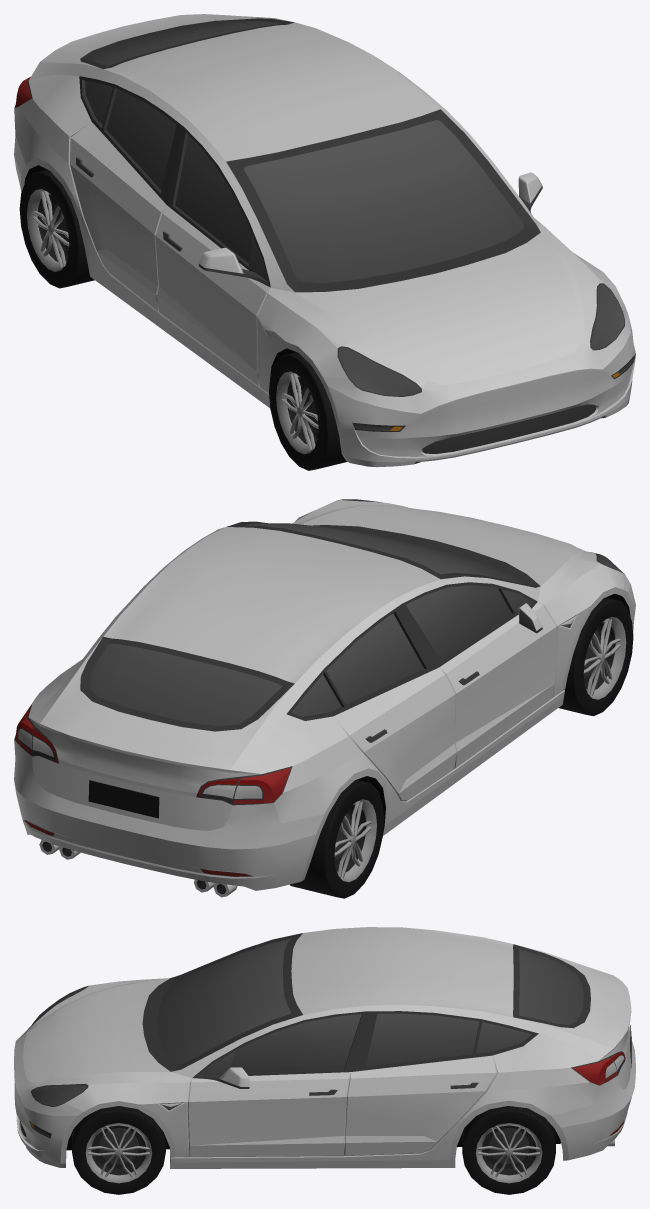
The model's file is car.fbx.
3 renders of one model, top to bottom at view 1: azimuth 30°, elevation 25°; view 2: azimuth 150°, elevation 25°; view 3: azimuth 270°, elevation 25°, orthographic. The views are drawn at different scales.
Visible parts, largest first — view 1: car; view 2: car; view 3: car.
Part boxes in pixels (left/top/right/bottom): car: left=14, top=14, right=635, bottom=470; car: left=14, top=499, right=635, bottom=898; car: left=14, top=927, right=635, bottom=1194.
Bounding box in the file's own units: 76.28 × 48.16 × 155.
